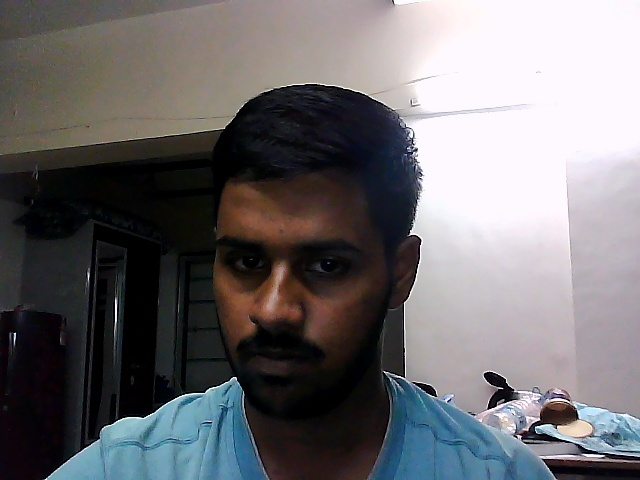awake: (193, 73, 448, 434)
